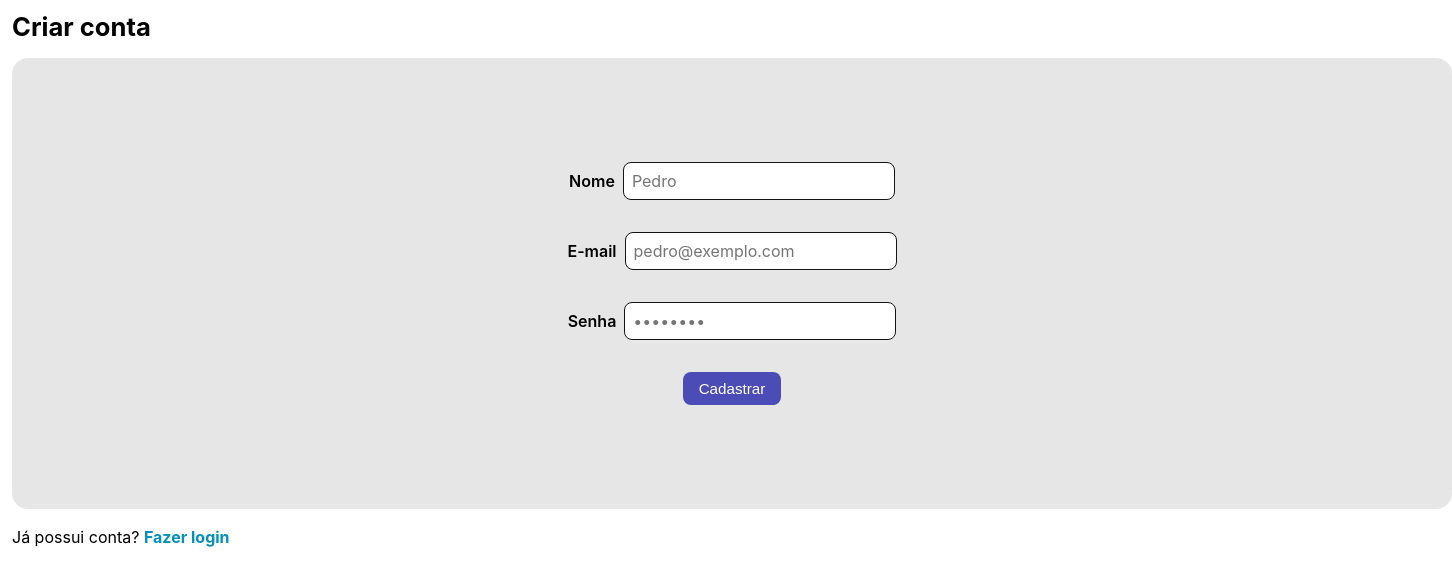
Scenario: Register Page (Unit Tests) › Deve exibir erros de validação com campos vazios
Click the button "Cadastrar" at (732, 388), box top-left (683, 372), bottom-right (781, 405)
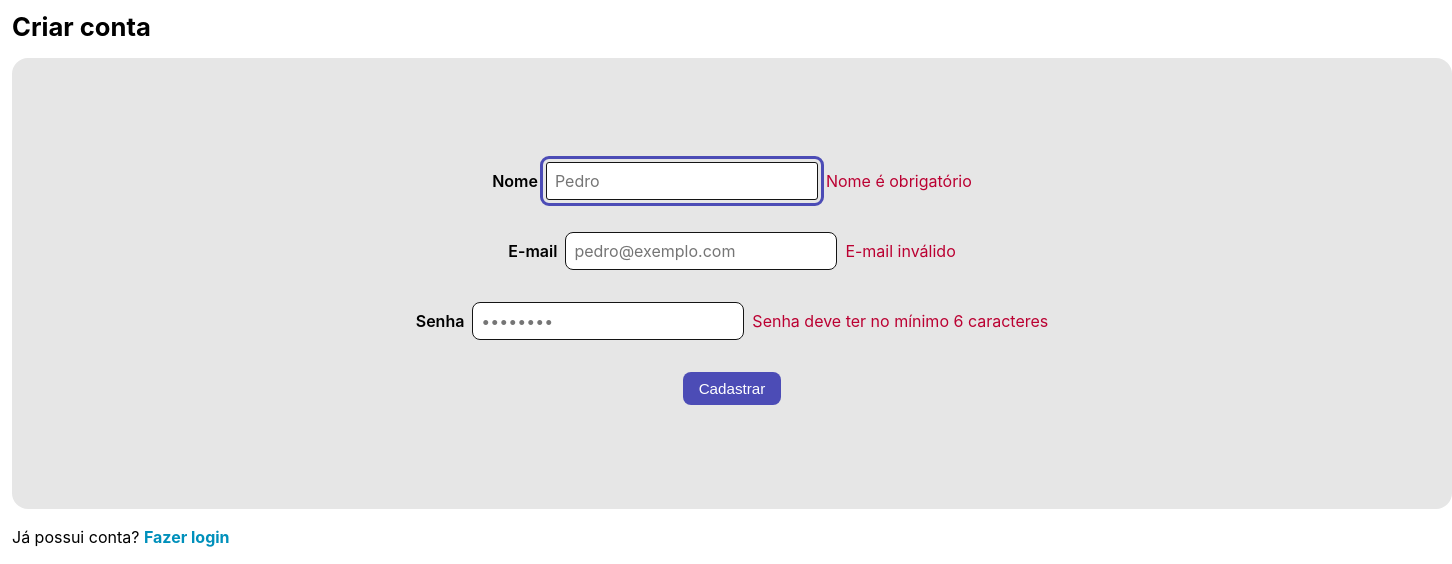
Expected: the text "Nome é obrigatório" is shown, top-left (826, 171), bottom-right (972, 191)
